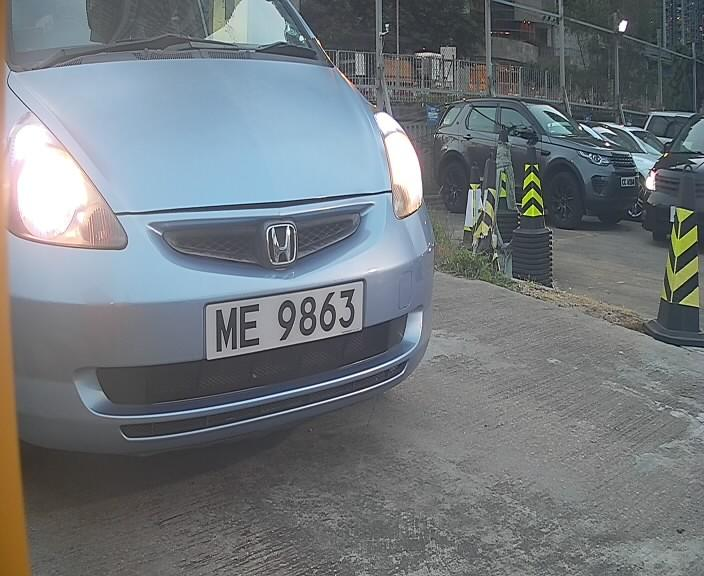License Plate: (189, 276, 371, 363)
